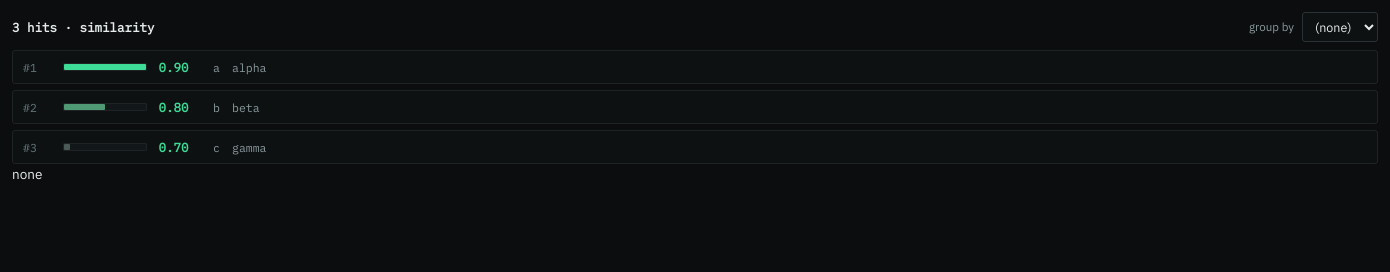
Scenario: group-by reorganizes hits under source headers
Select "source" in the dropdown labelled "group by" at (1340, 27), box [1302,12,1378,42]
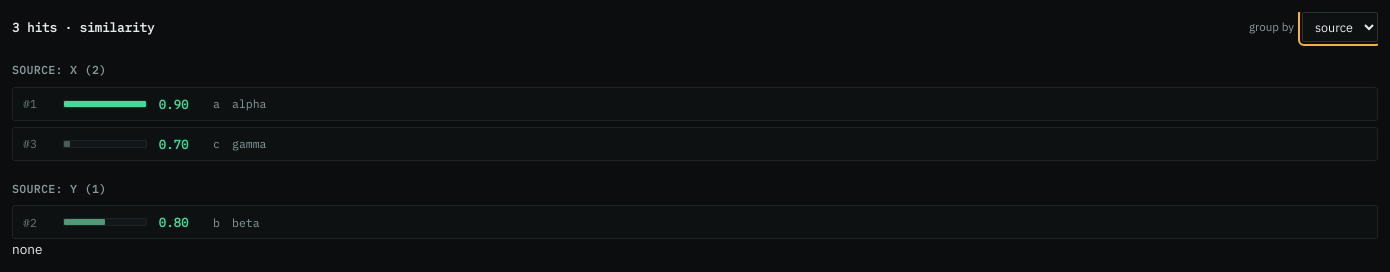
Check: the heading "source: x (2)" is shown, box [12,63,106,77]
Check: the heading "source: y (1)" is shown, box [12,182,106,196]
